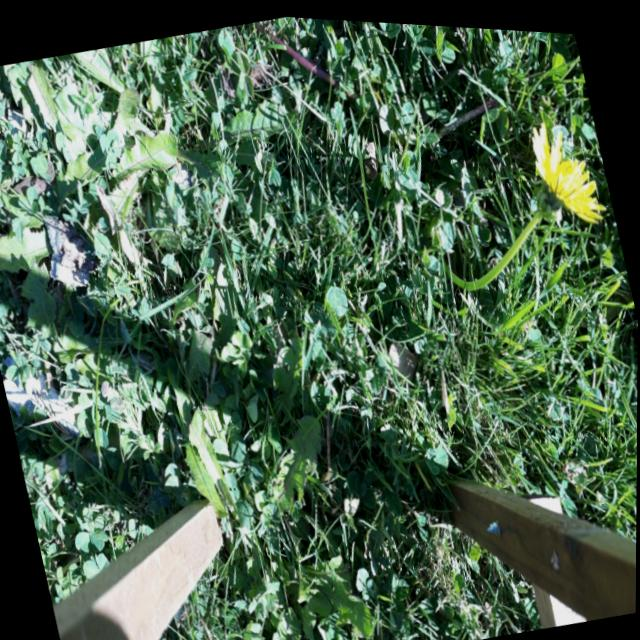base: (340, 68, 375, 118), (433, 240, 462, 285)
